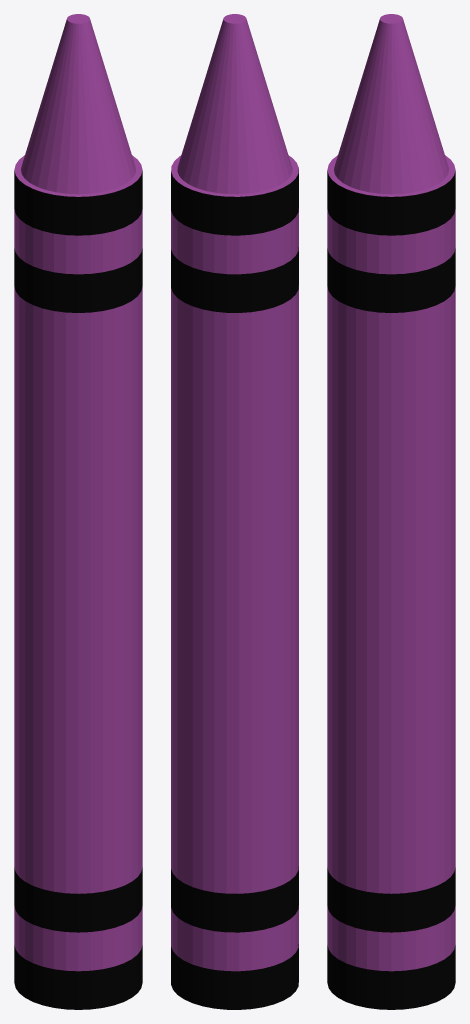
The model's file is CrayonVar4.fbx.
3 views of the same model, side by side, from view 1: azimuth 90°, elevation 25°; view 2: azimuth 150°, elevation 25°; view 3: azimuth 270°, elevation 25° (orthographic).
Visible parts, largest first — view 1: CrayonP; view 2: CrayonP; view 3: CrayonP.
Part boxes in pixels (x1,y1,x2,y2): CrayonP: (14,14,142,1009); CrayonP: (171,14,298,1009); CrayonP: (327,14,455,1009).
Size of the model in its own units: 200 by 200 by 1660.
